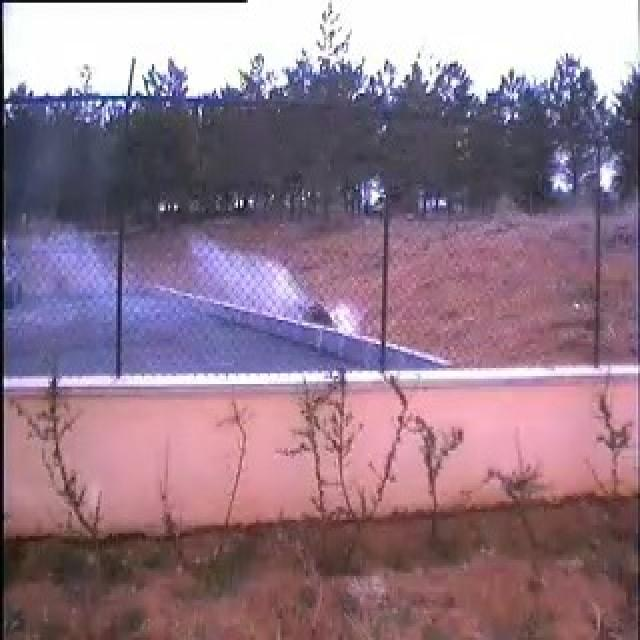smoke: (67, 216, 328, 371)
